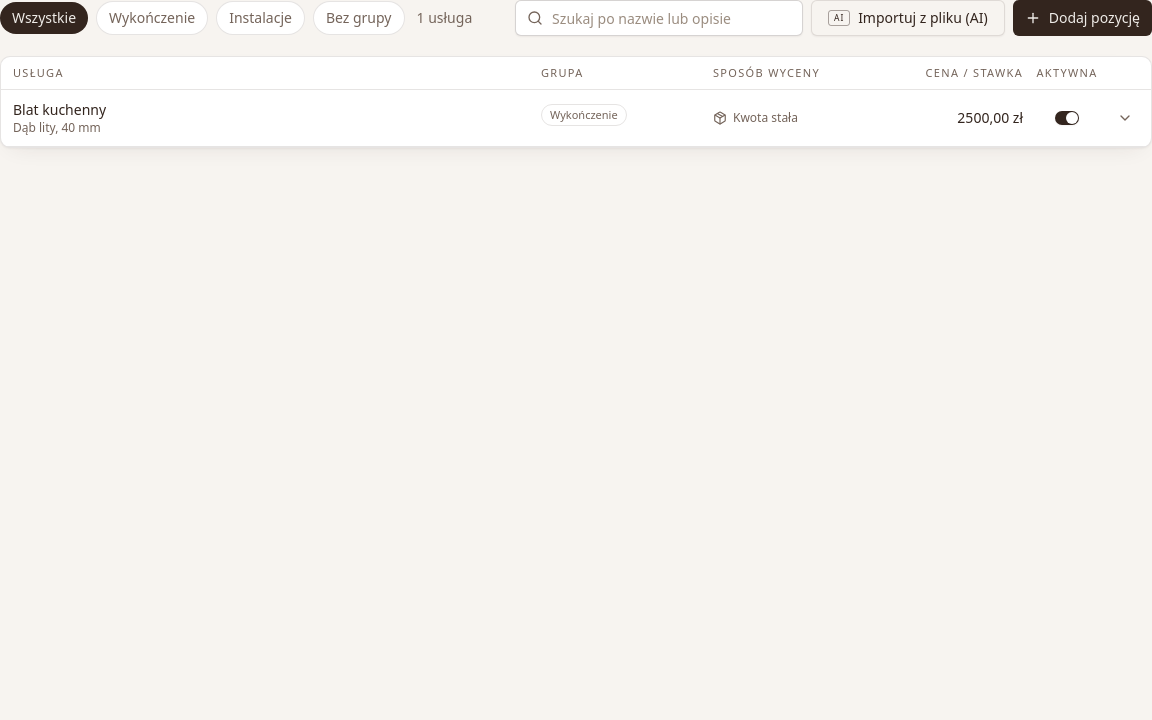
LibraryItemsTab — kaskada do otwartej wyceny › pyta i podaje LICZBE pozycji, gdy wycena ma powiazane pozycje
Click the button with aria-label "Rozwiń: Blat kuchenny" at [60, 109], box [13, 100, 1023, 136]
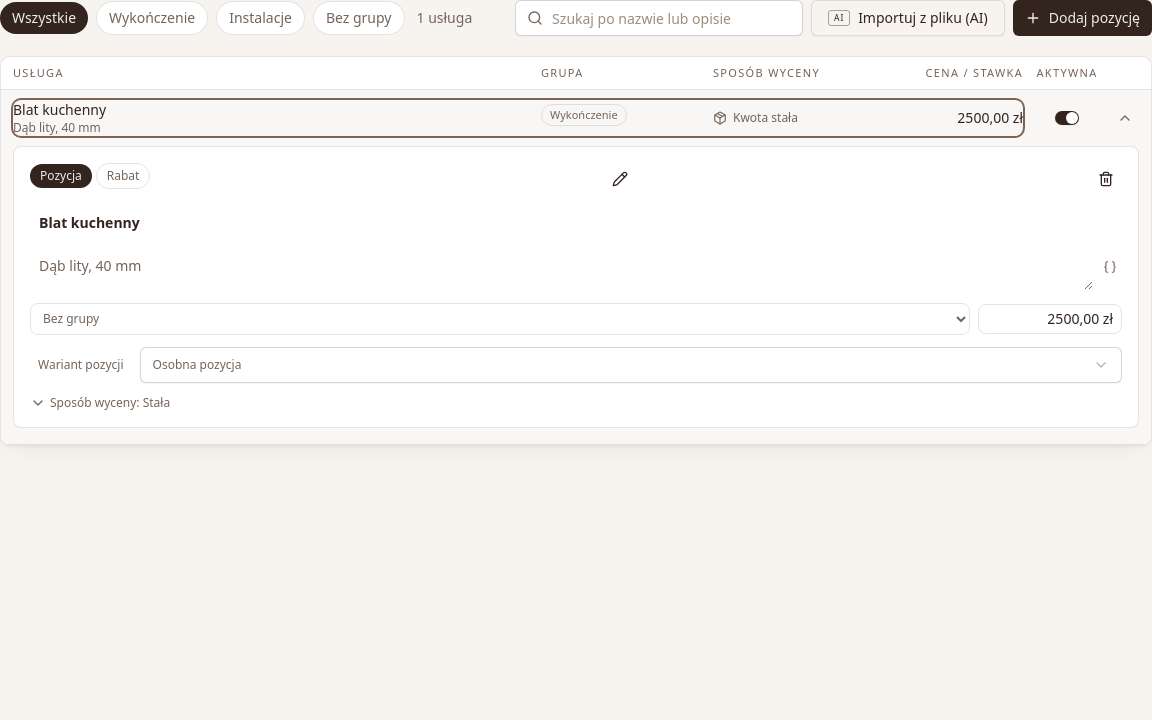
Replace the text in the field named "Nazwa pozycji: Blat kuchenny" with "Blat dębowy" at [576, 223], box [30, 207, 1122, 239]
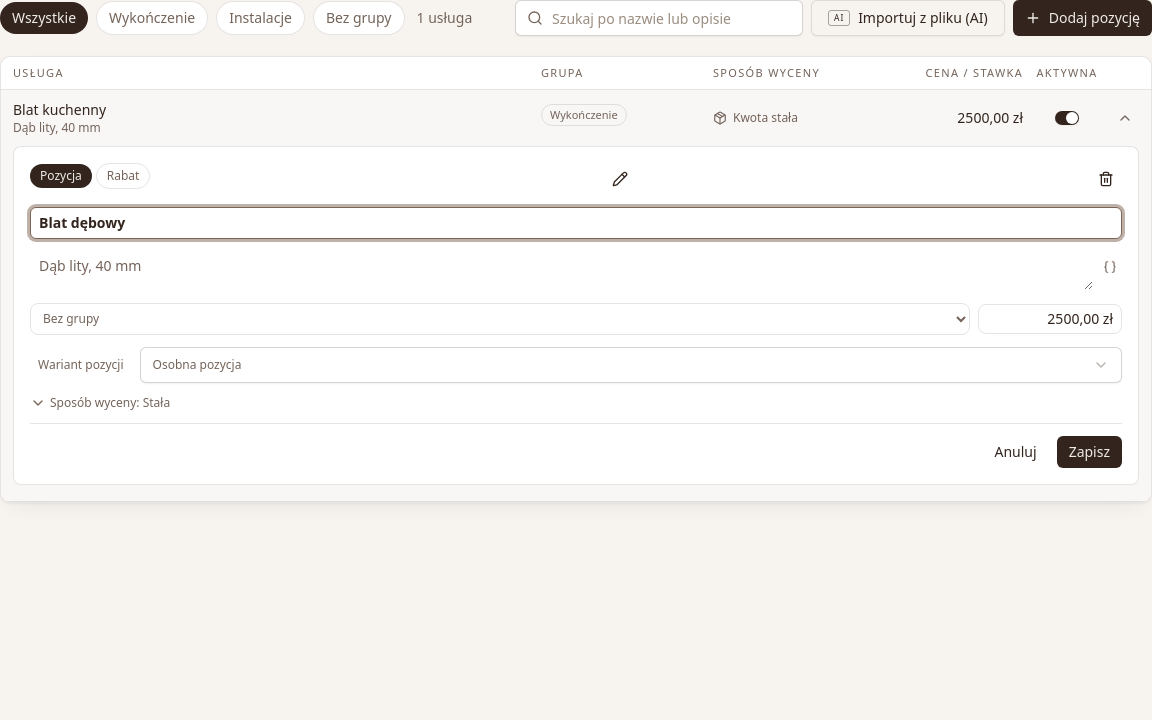
Click the button "Zapisz" at [1089, 452], box [1057, 436, 1122, 468]
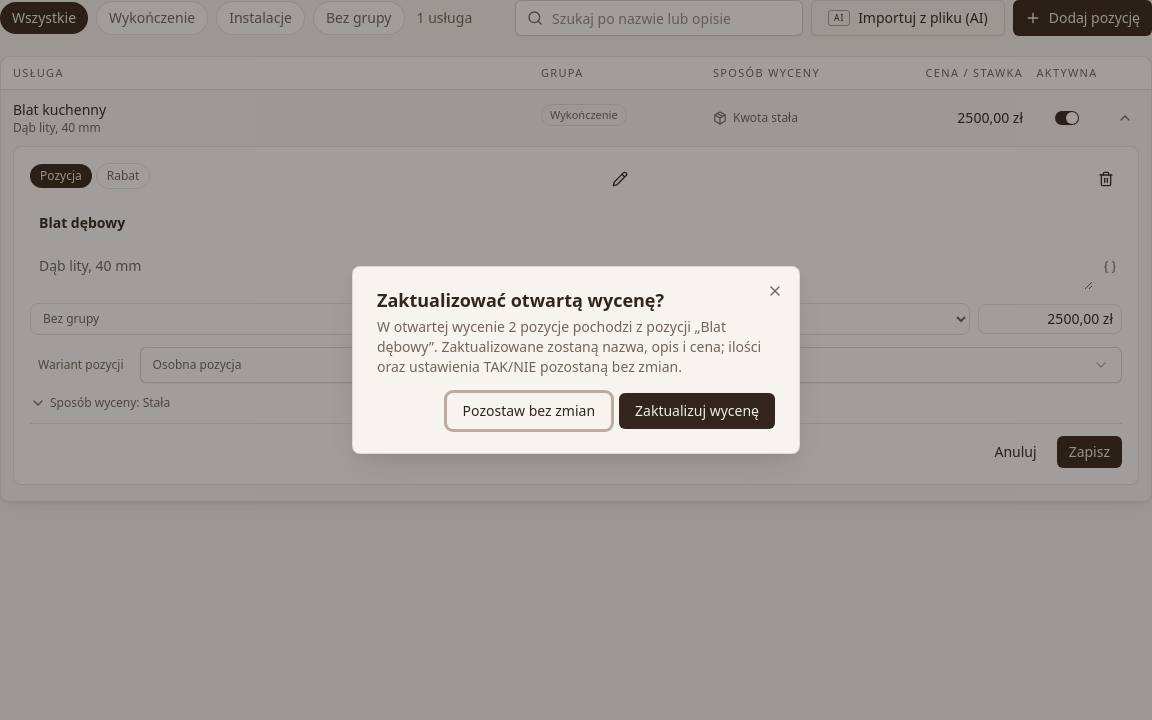
Expected: the heading "Zaktualizować otwartą wycenę?" is shown, [377, 288, 664, 312]
Expected: the text "2 pozycje" is shown, [377, 317, 761, 376]
